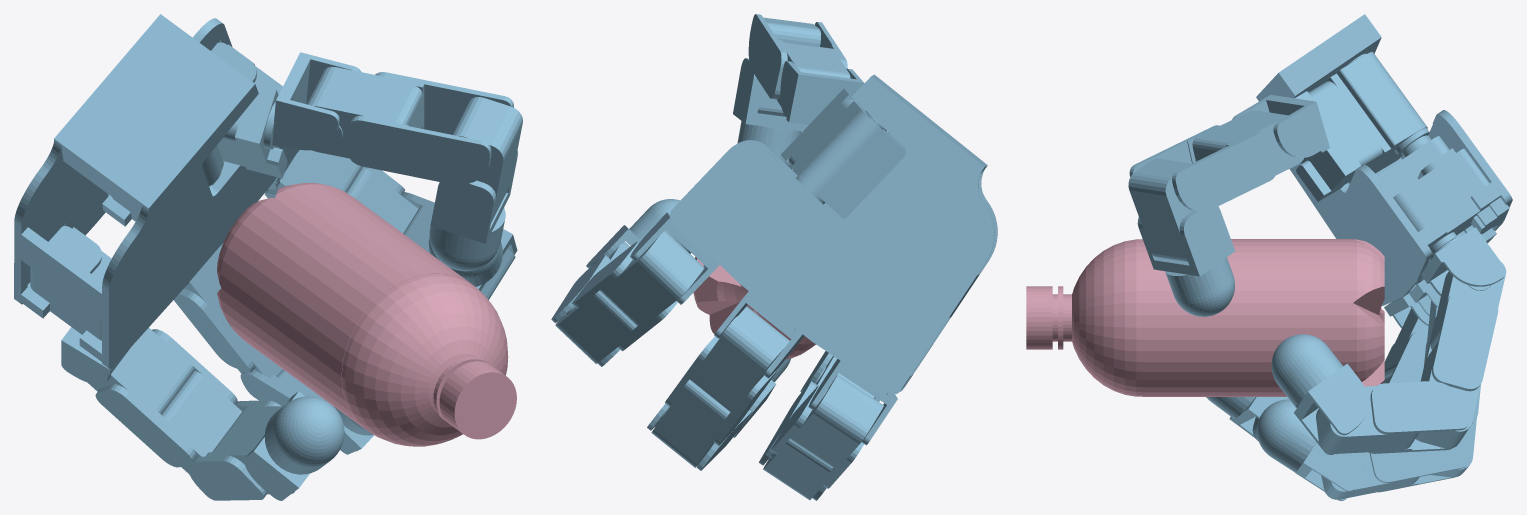
The picture shows the model from 3 angles, left to right: view 1: azimuth 30°, elevation 25°; view 2: azimuth 150°, elevation 25°; view 3: azimuth 270°, elevation 25°; orthographic projection. The views are drawn at different scales.
Parts seen in each view (by area): view 1: world; view 2: world; view 3: world.
Part boxes in pixels (x1=…): world: x1=14, y1=14, x2=522, y2=500; world: x1=551, y1=14, x2=997, y2=500; world: x1=1026, y1=14, x2=1512, y2=500.
Bounding box in the file's own units: 0.1873 × 0.1857 × 0.1853.
